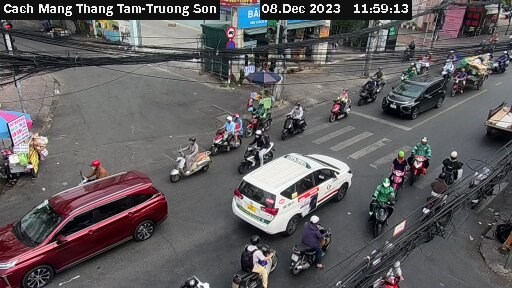car: (1, 168, 173, 279), (227, 150, 357, 222), (386, 72, 448, 120)
motorbike: (288, 222, 340, 264), (165, 138, 210, 186), (225, 239, 273, 280), (418, 183, 457, 224), (200, 115, 241, 150), (367, 178, 398, 221), (230, 129, 270, 161), (282, 100, 316, 136), (442, 149, 479, 181), (73, 159, 112, 188), (333, 85, 360, 121), (404, 139, 437, 168), (384, 153, 412, 182), (359, 75, 382, 107)
